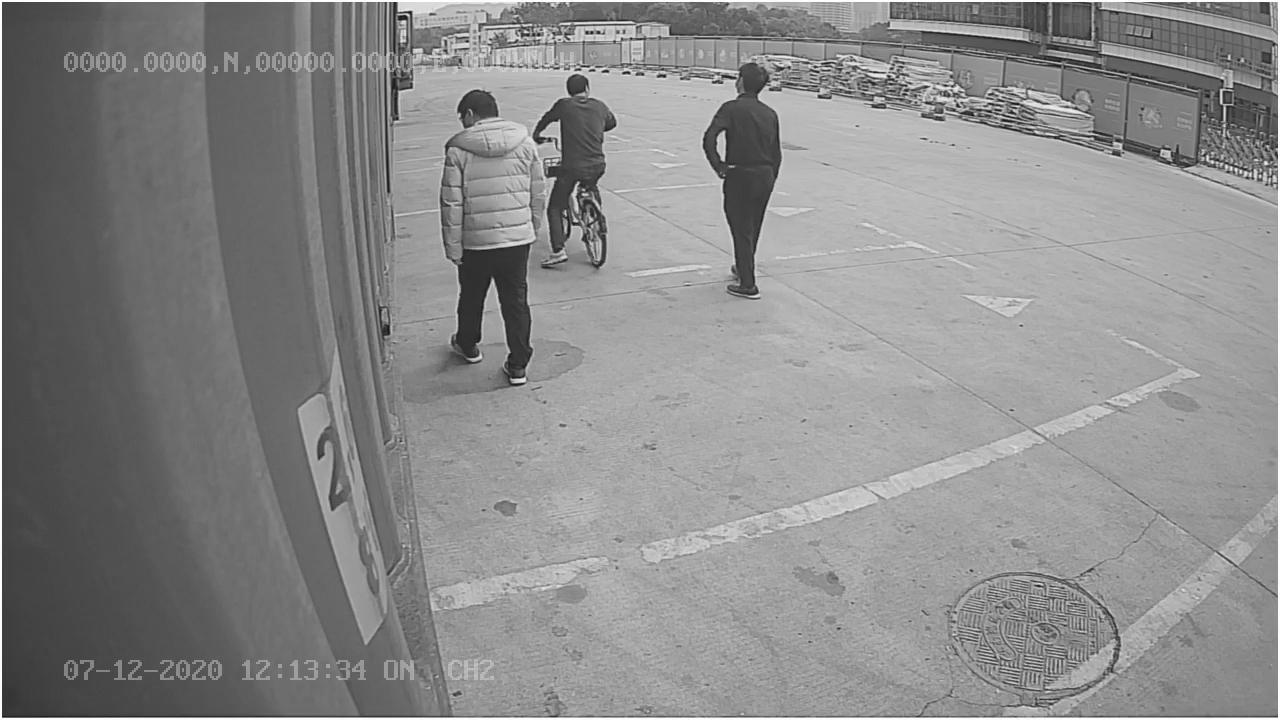person: (696, 56, 784, 302)
